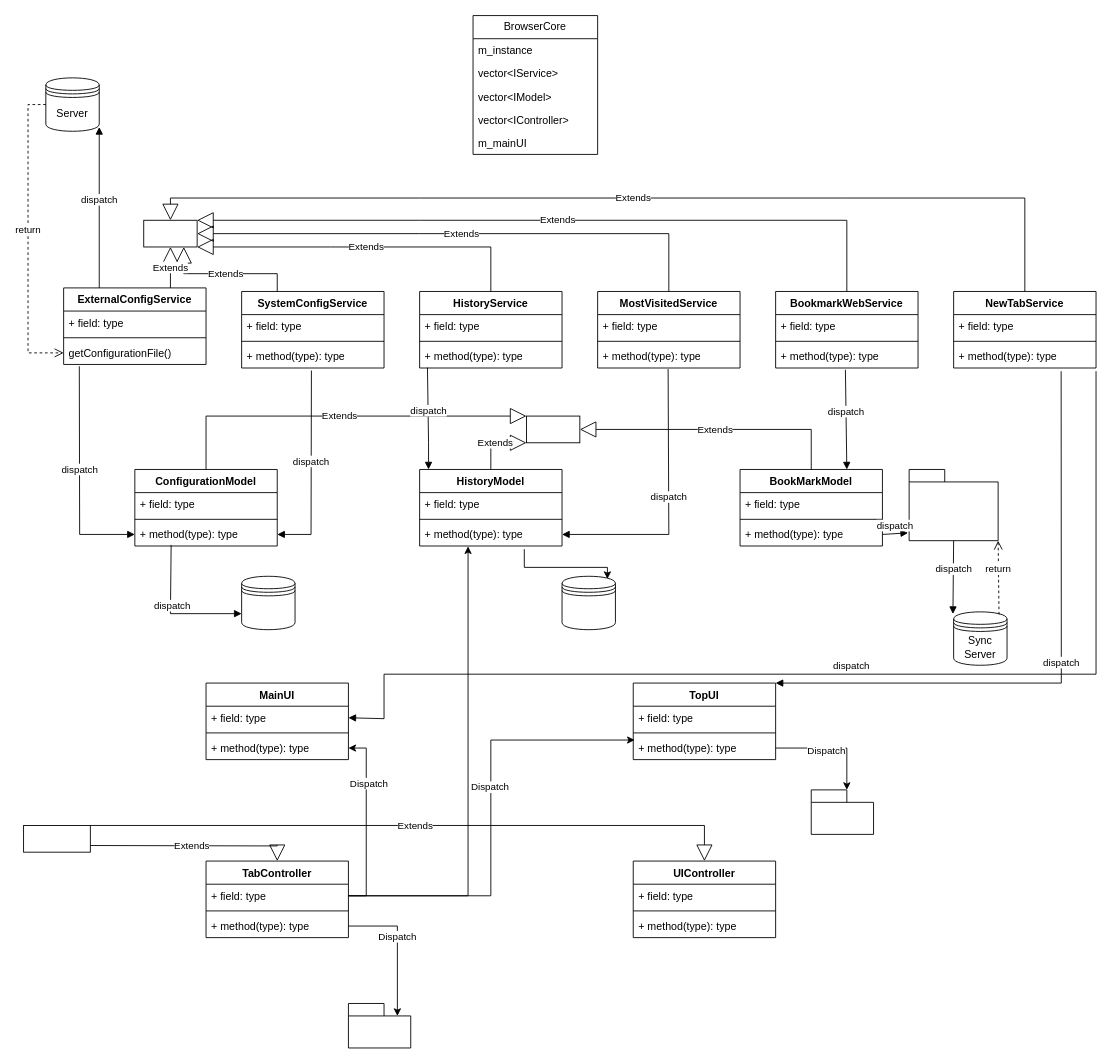
This 1119x1064 diagram has some shape labels left out. The shapes that lost their labels are listed below. From the top down, each one's centre as x and y in pixels, then its label:
(170,233): IService
(553,429): IModel
(953,505): Bookmark adaptor sync
(268,602): Config Table
(588,602): History Table
(842,811): EFL
(56,838): IController
(379,1025): Chromium
